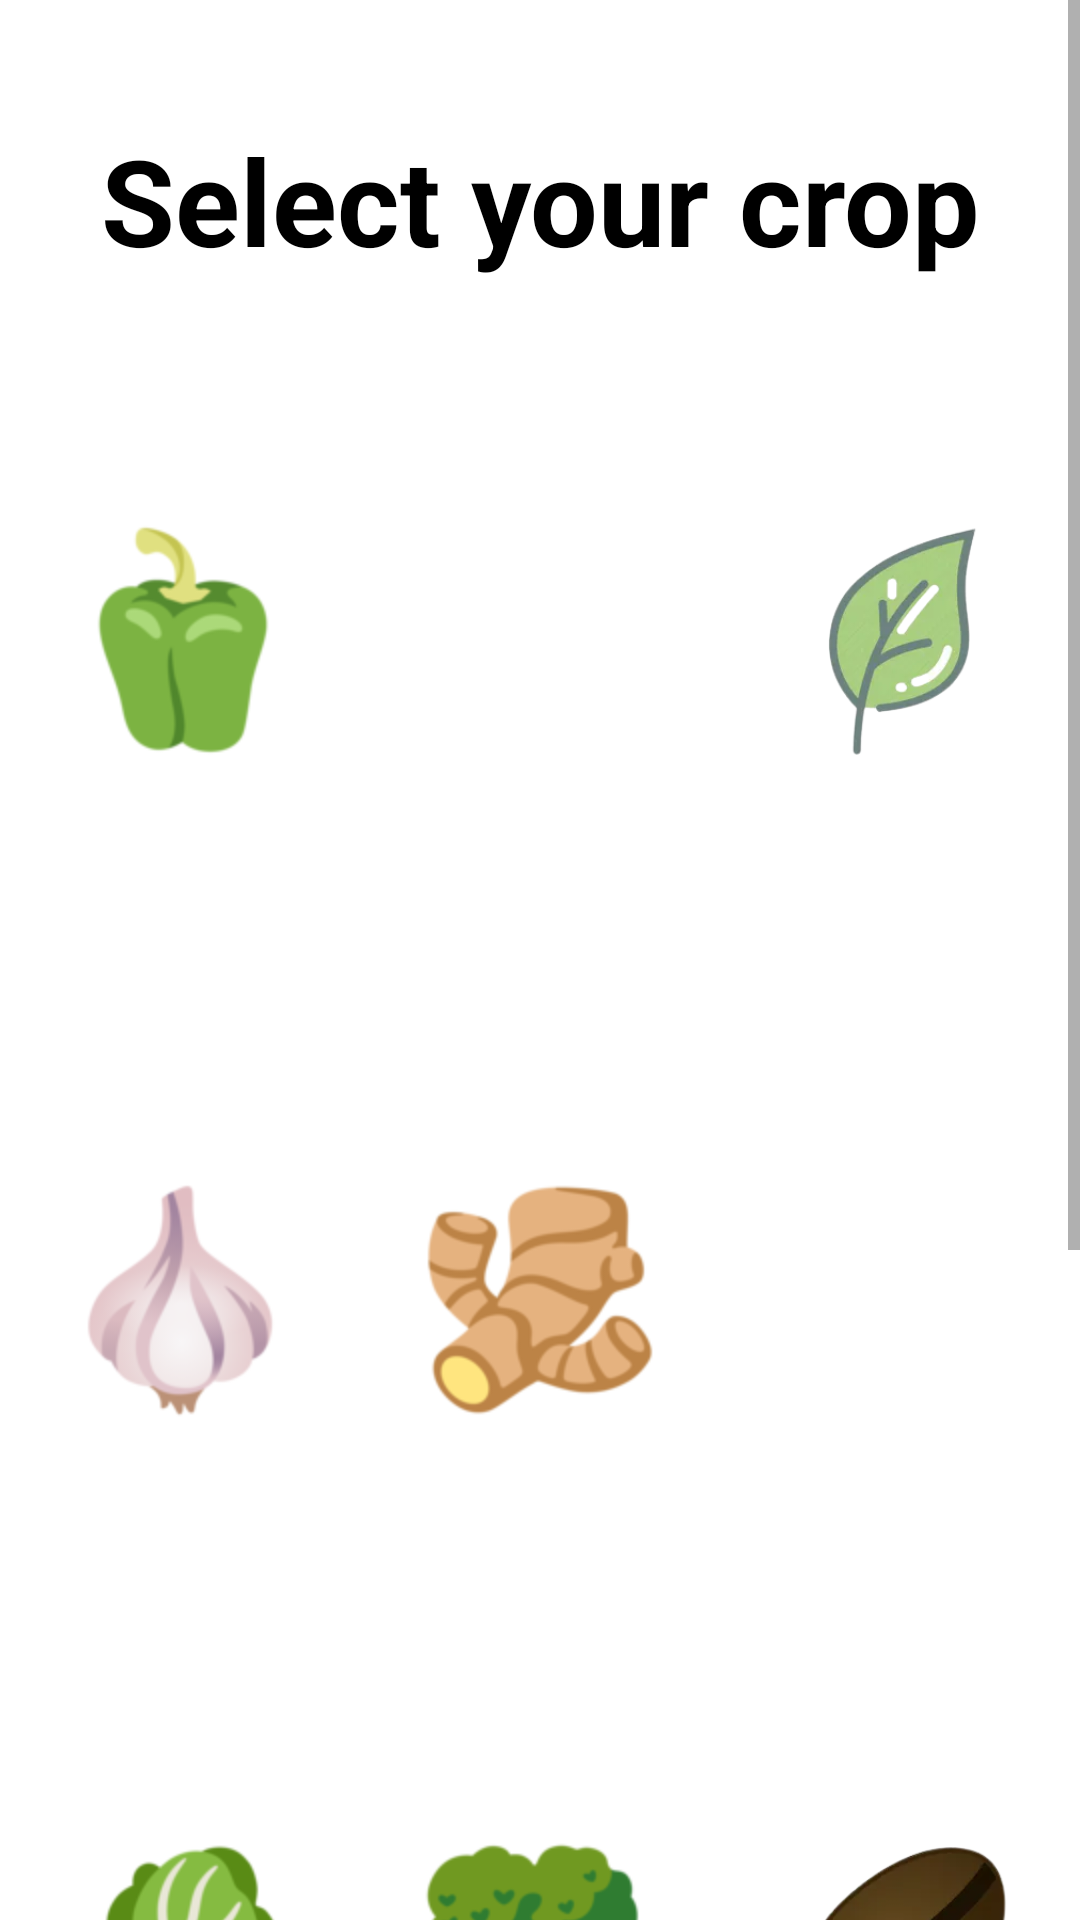

Screen size 1080 x 1920. Icon name, then its box in pixels as (x1, y1, x2, y2):
garlic: (88, 1186, 272, 1415)
ginger: (427, 1186, 653, 1414)
tea: (829, 529, 975, 755)
